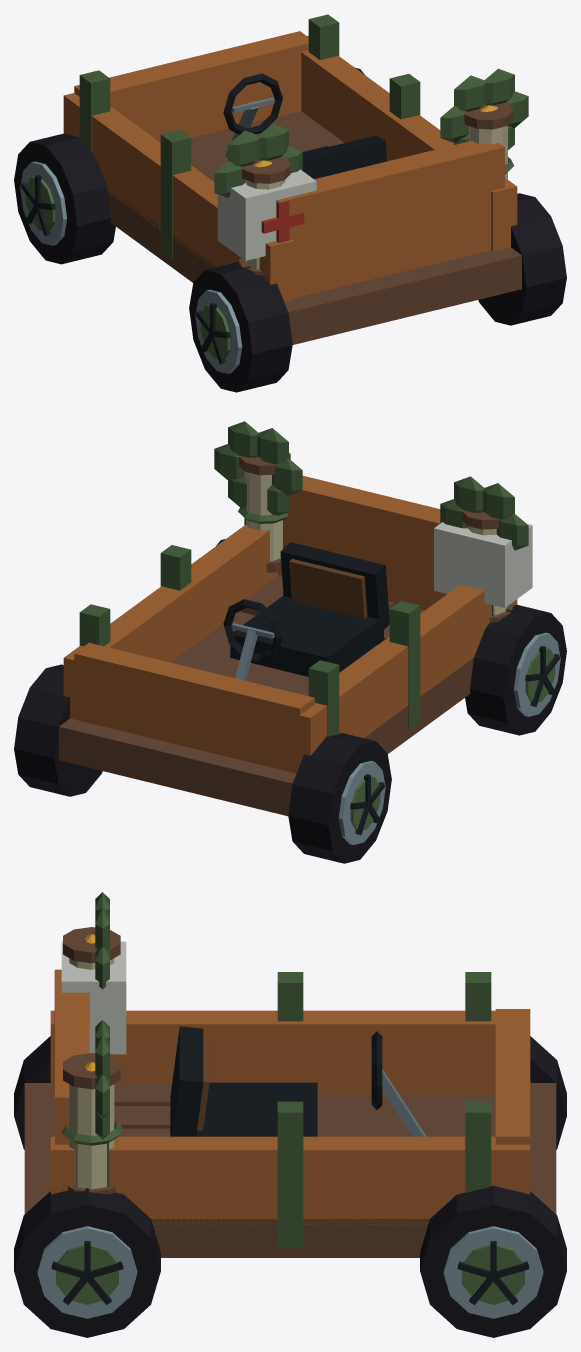
Rendered from kart.glb.
The picture shows the model from 3 angles, top to bottom: view 1: azimuth 30°, elevation 25°; view 2: azimuth 150°, elevation 25°; view 3: azimuth 270°, elevation 25°; orthographic projection. The views are drawn at different scales.
Parts seen in each view (by area): view 1: identity-wagon-wagon-timber-coach, wheel-rear-left, wheel-front-left, identity-wagon-motif-flowers, wheel-rear-right, identity-wagon-motif-medical, identity-wagon-driver-cockpit, identity-wagon-motif-scrolls; view 2: identity-wagon-wagon-timber-coach, identity-wagon-driver-cockpit, wheel-front-left, wheel-rear-left, identity-wagon-motif-flowers, identity-wagon-motif-medical, wheel-front-right, identity-wagon-motif-scrolls; view 3: identity-wagon-wagon-timber-coach, wheel-front-right, wheel-rear-right, identity-wagon-driver-cockpit, identity-wagon-motif-scrolls, identity-wagon-motif-medical, identity-wagon-motif-flowers, wheel-front-left, wheel-rear-left.
Part boxes in pixels (x1=…): identity-wagon-wagon-timber-coach: x1=63, y1=14, x2=521, y2=344; wheel-rear-left: x1=189, y1=261, x2=292, y2=392; wheel-front-left: x1=14, y1=133, x2=115, y2=264; identity-wagon-motif-flowers: x1=214, y1=68, x2=528, y2=197; wheel-rear-right: x1=478, y1=193, x2=566, y2=325; identity-wagon-motif-medical: x1=217, y1=169, x2=316, y2=260; identity-wagon-driver-cockpit: x1=223, y1=73, x2=386, y2=179; identity-wagon-motif-scrolls: x1=239, y1=102, x2=513, y2=275; identity-wagon-wagon-timber-coach: x1=59, y1=475, x2=517, y2=816; identity-wagon-driver-cockpit: x1=223, y1=542, x2=389, y2=680; wheel-front-left: x1=288, y1=733, x2=391, y2=863; wheel-rear-left: x1=465, y1=604, x2=566, y2=735; identity-wagon-motif-flowers: x1=214, y1=421, x2=528, y2=550; identity-wagon-motif-medical: x1=434, y1=522, x2=532, y2=607; wheel-front-right: x1=14, y1=664, x2=102, y2=796; identity-wagon-motif-scrolls: x1=238, y1=453, x2=513, y2=623; identity-wagon-wagon-timber-coach: x1=24, y1=969, x2=556, y2=1257; wheel-front-right: x1=420, y1=1185, x2=566, y2=1337; wheel-rear-right: x1=14, y1=1188, x2=160, y2=1337; identity-wagon-driver-cockpit: x1=170, y1=1026, x2=426, y2=1136; identity-wagon-motif-scrolls: x1=62, y1=927, x2=121, y2=1194; identity-wagon-motif-medical: x1=54, y1=941, x2=126, y2=1054; identity-wagon-motif-flowers: x1=84, y1=892, x2=109, y2=1139; wheel-front-left: x1=530, y1=1036, x2=566, y2=1149; wheel-rear-left: x1=14, y1=1036, x2=50, y2=1149.
Bounding box in the file's own units: 2.07 × 1.46 × 2.56.
